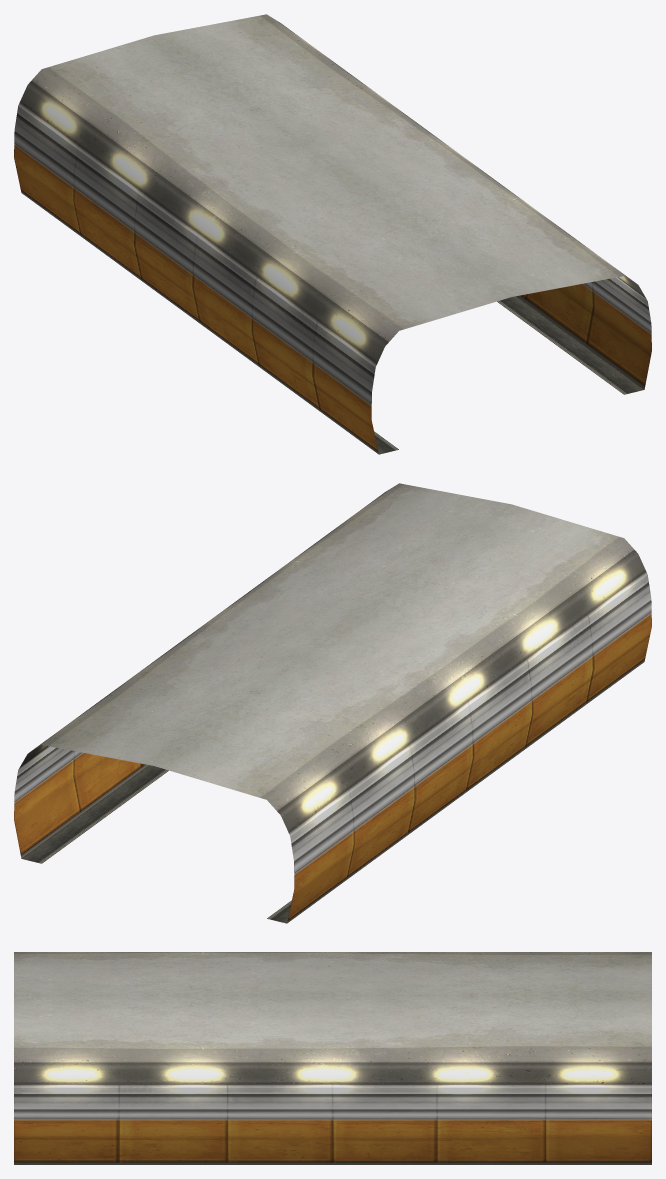
Rendered from tunnel1_short.fbx.
3 renders of one model, top to bottom at view 1: azimuth 30°, elevation 25°; view 2: azimuth 150°, elevation 25°; view 3: azimuth 270°, elevation 25°, orthographic. The views are drawn at different scales.
Visible parts, largest first — view 1: tunnel1_short; view 2: tunnel1_short; view 3: tunnel1_short.
Boxes of the visible parts, bbox=[...] form: tunnel1_short: bbox=[14, 14, 651, 454]; tunnel1_short: bbox=[14, 483, 651, 923]; tunnel1_short: bbox=[14, 952, 651, 1164].
Size of the model in its own units: 2265 by 966 by 5000.
